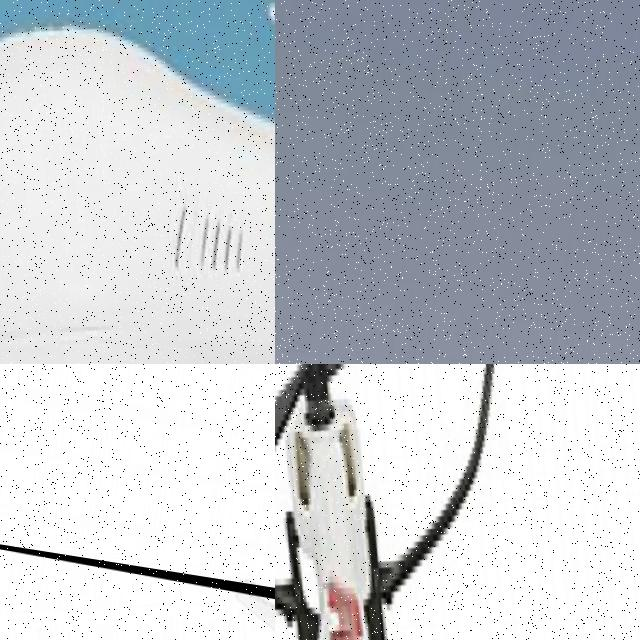drone: (275, 364, 640, 640), (0, 0, 275, 364), (0, 510, 275, 640)
